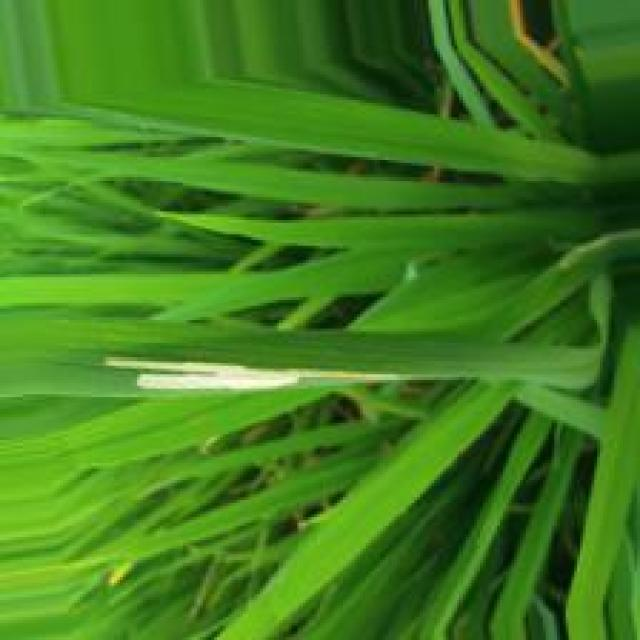Rice_Hispa: (108, 355, 381, 389)
